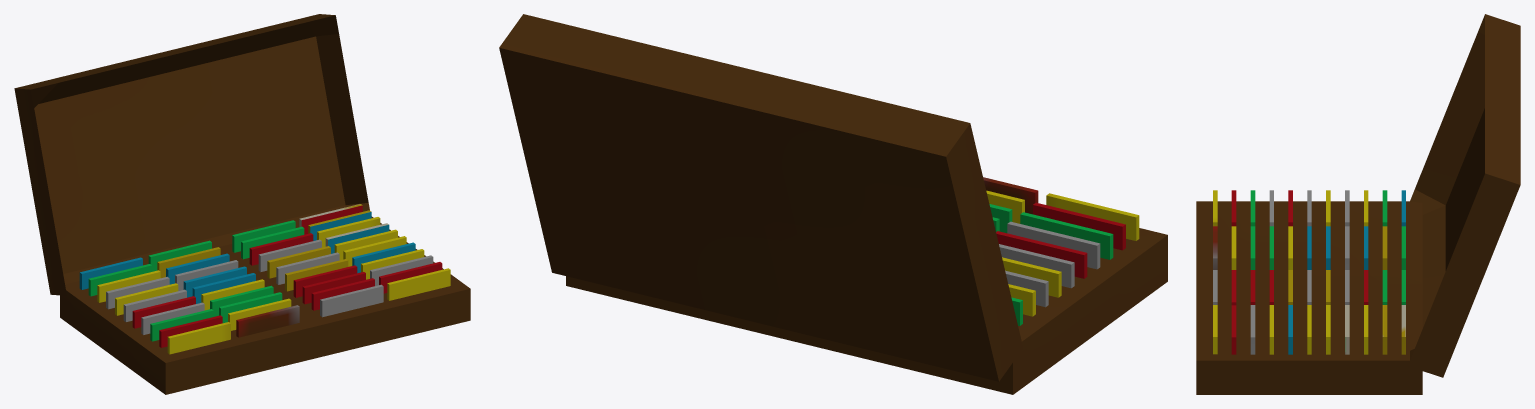
The model's file is CassetteCase.fbx.
The picture shows the model from 3 angles, left to right: view 1: azimuth 30°, elevation 25°; view 2: azimuth 150°, elevation 25°; view 3: azimuth 270°, elevation 25°; orthographic projection. The views are drawn at different scales.
Parts seen in each view (by area): view 1: Cube; view 2: Cube; view 3: Cube.
Boxes of the visible parts, <box> form: Cube: <box>14,14,470,394</box>; Cube: <box>499,14,1167,394</box>; Cube: <box>1196,14,1520,394</box>.
Size of the model in its own units: 1000 by 648 by 859.
